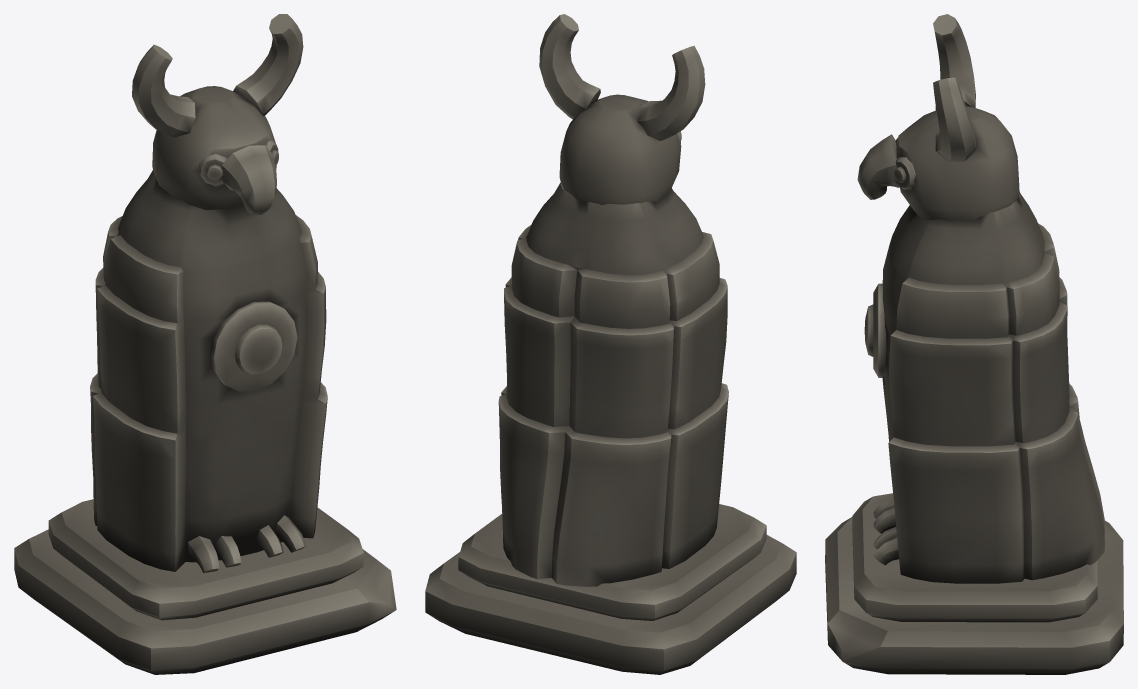
The model's file is stone_beast.fbx.
3 views of the same model, side by side, from view 1: azimuth 30°, elevation 25°; view 2: azimuth 150°, elevation 25°; view 3: azimuth 270°, elevation 25° (orthographic). The views are drawn at different scales.
Visible parts, largest first — view 1: stone_beast_Body; view 2: stone_beast_Body; view 3: stone_beast_Body.
Boxes of the visible parts, bbox=[...] form: stone_beast_Body: bbox=[14, 14, 396, 674]; stone_beast_Body: bbox=[425, 14, 796, 674]; stone_beast_Body: bbox=[825, 14, 1123, 674].
Size of the model in its own units: 0.1057 by 0.2125 by 0.1013.
1 material, 1 textured.
